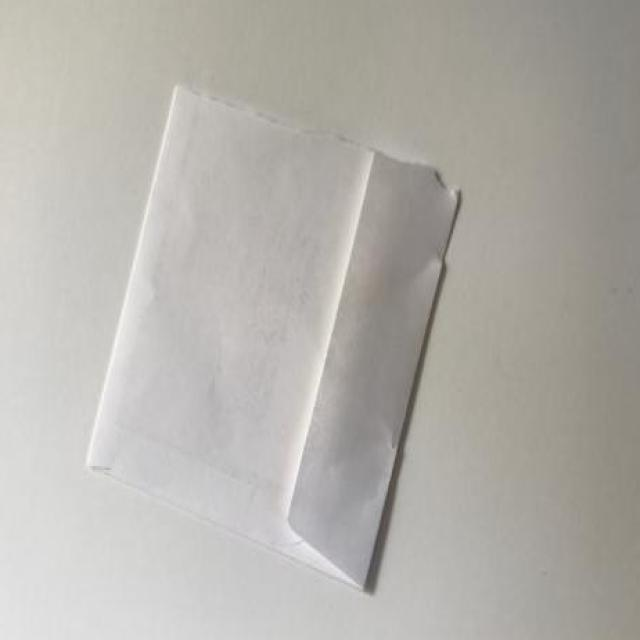kertas: (87, 82, 465, 592)
